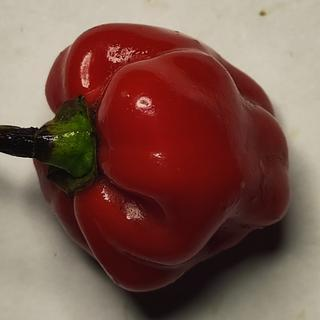Grade-B: (29, 18, 295, 295)
